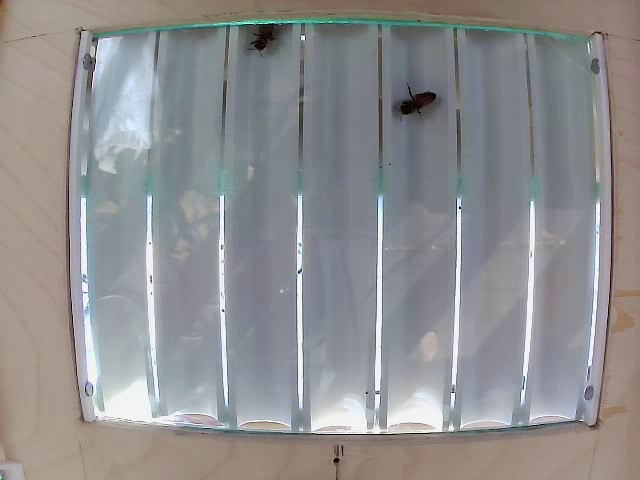bee: (392, 81, 441, 133), (240, 18, 289, 62)
